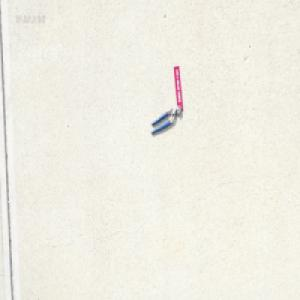Label: (173, 65, 183, 111)
Pliers: (150, 105, 181, 136)
